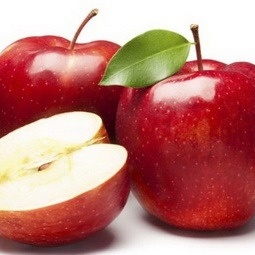apple: (111, 57, 255, 235), (1, 111, 130, 246), (1, 38, 133, 150)
